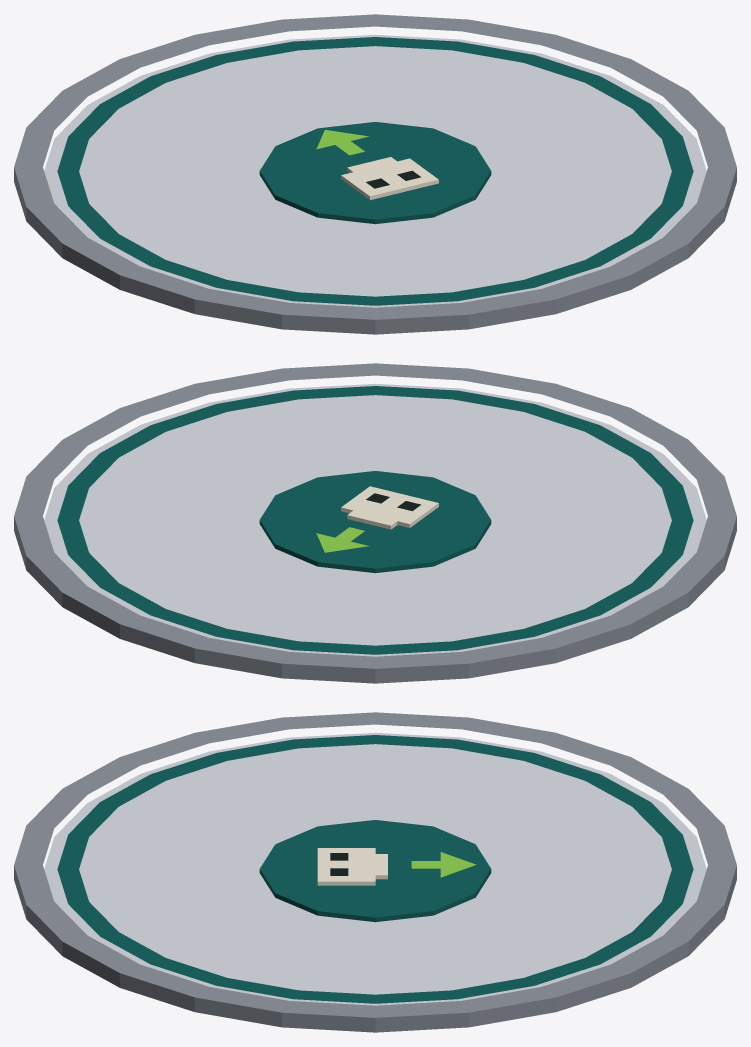
File: weakener_common_area.glb
3 views of the same model, one above another, from view 1: azimuth 30°, elevation 25°; view 2: azimuth 150°, elevation 25°; view 3: azimuth 270°, elevation 25° (orthographic).
Parts seen in each view (by area): view 1: weakener_common_area; view 2: weakener_common_area; view 3: weakener_common_area.
Boxes of the visible parts, x1=… form: weakener_common_area: x1=14, y1=14, x2=736, y2=334; weakener_common_area: x1=14, y1=363, x2=736, y2=683; weakener_common_area: x1=14, y1=712, x2=736, y2=1032.
Size of the model in its own units: 2 by 0.047 by 2.
Materials: 1 (1 with a texture image).
